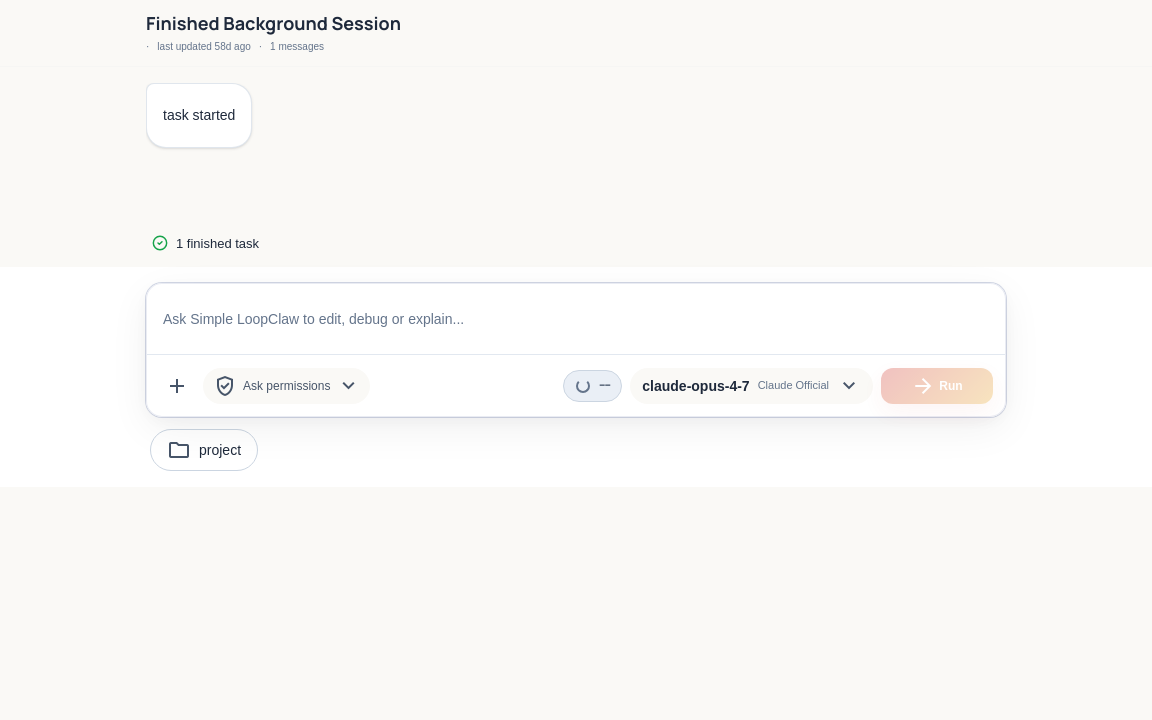
ActiveSession task polling › keeps finished background tasks reachable until cleared
Click the button "1 finished task" at coordinates (206, 243), box [146, 227, 265, 259]
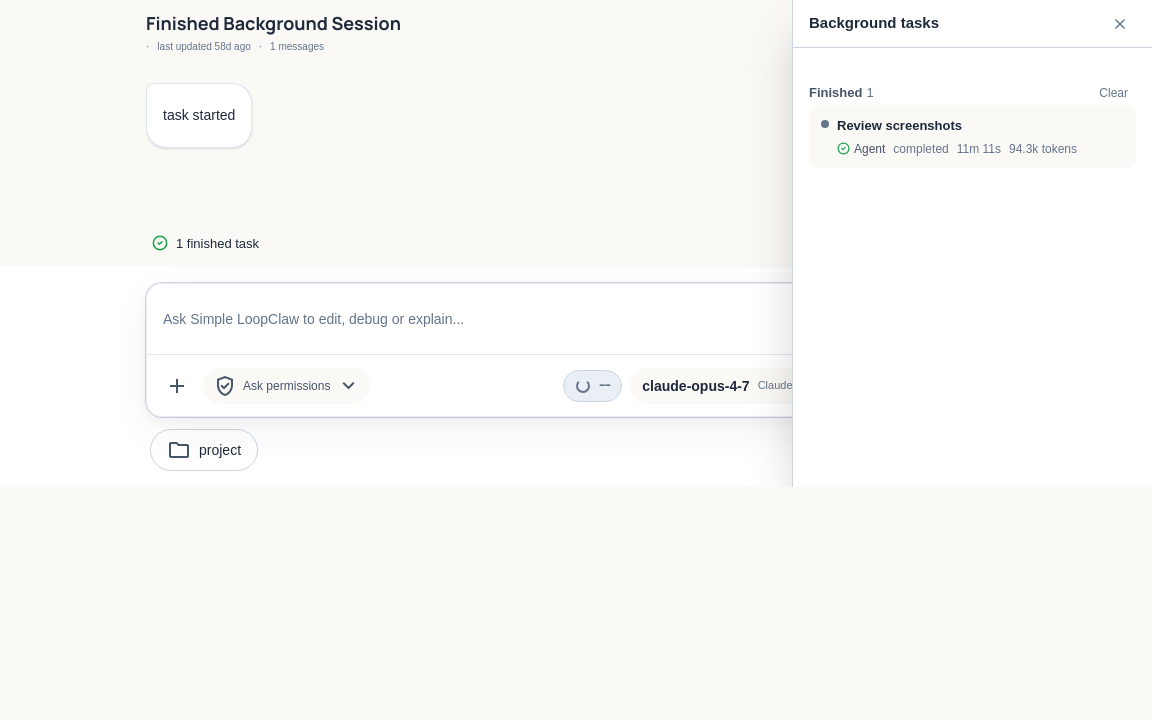
Expected: the heading "Finished1" is shown, [809, 83, 874, 103]
Expected: the text "1" is shown, [866, 85, 874, 100]
Expected: the text "Review screenshots" is shown, [837, 118, 962, 133]
Click the button "Clear" at coordinates (1114, 93), box [1091, 80, 1136, 106]
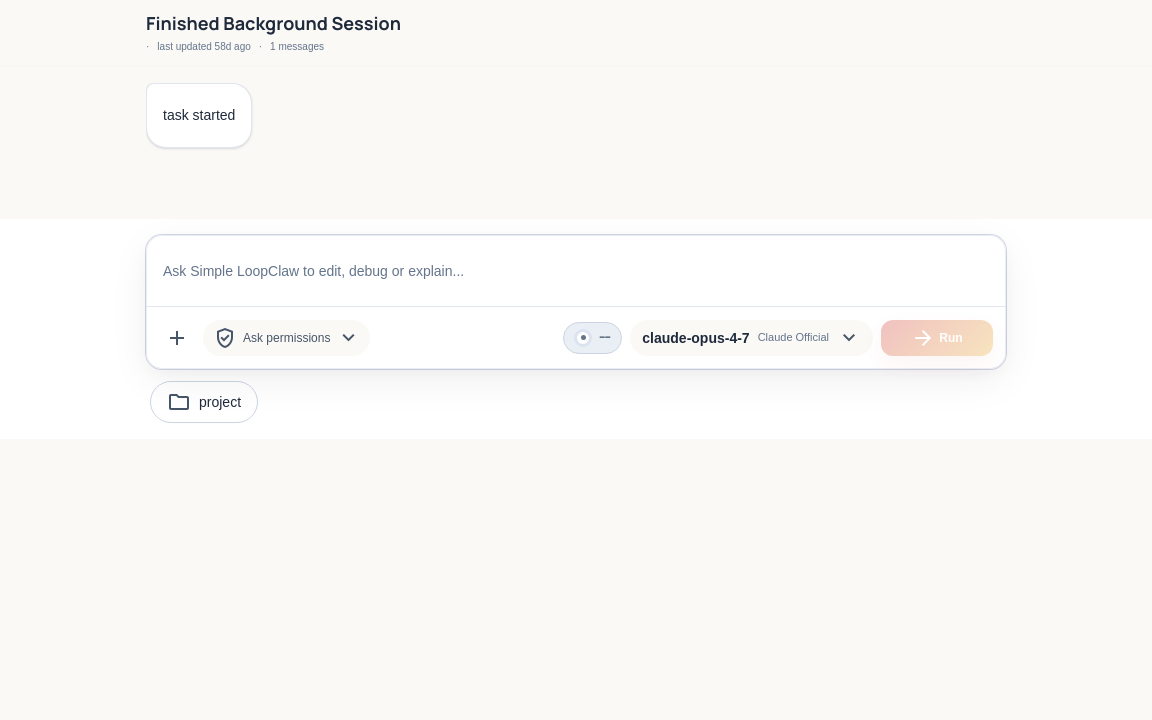
Expected: the button with test id "background-tasks-drawer" is gone
Expected: the button "1 finished task" is gone
